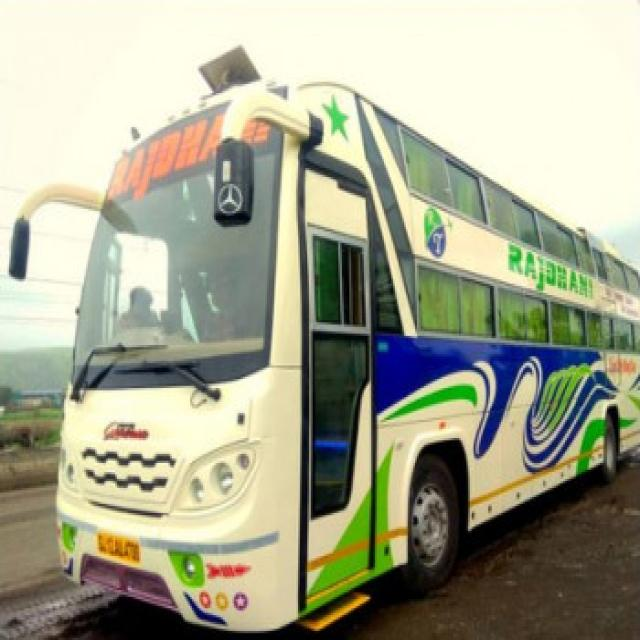bus: (23, 51, 640, 631)
